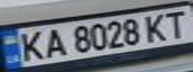0: (87, 20, 109, 52)
2: (106, 17, 127, 48)
8: (69, 22, 93, 54), (121, 16, 145, 46)
A: (39, 26, 69, 59)
K: (12, 28, 48, 63), (139, 11, 172, 43)
T: (160, 7, 193, 38)
